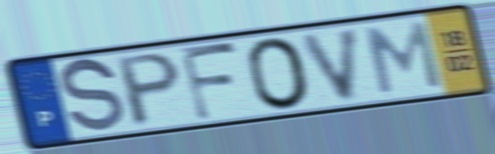F: (177, 40, 242, 124)
M: (362, 18, 446, 97)
O: (243, 34, 315, 112)
P: (115, 50, 184, 131)
S: (58, 55, 128, 138)
V: (297, 24, 365, 105)
